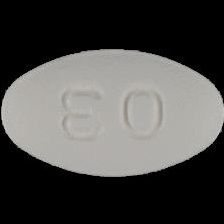10544-190: (0, 0, 224, 224)
